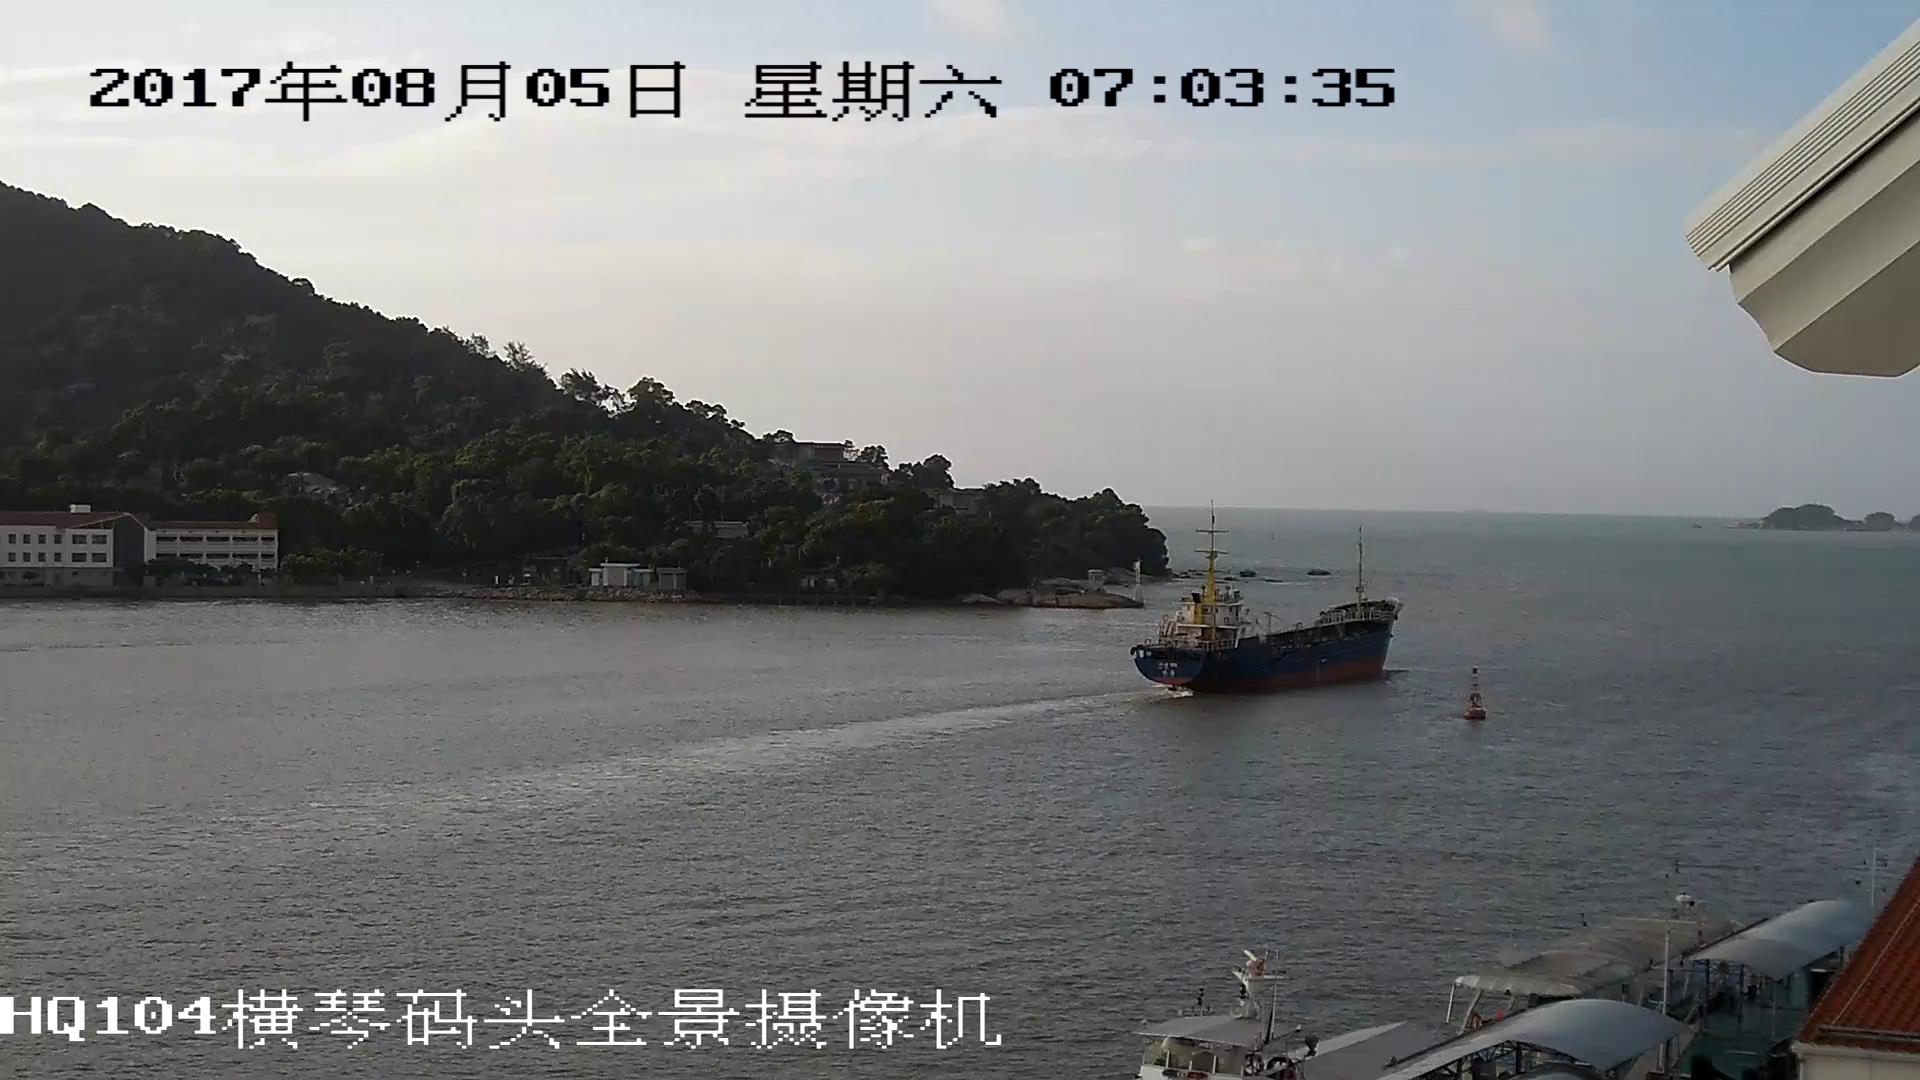general cargo ship: (1129, 519, 1402, 695)
